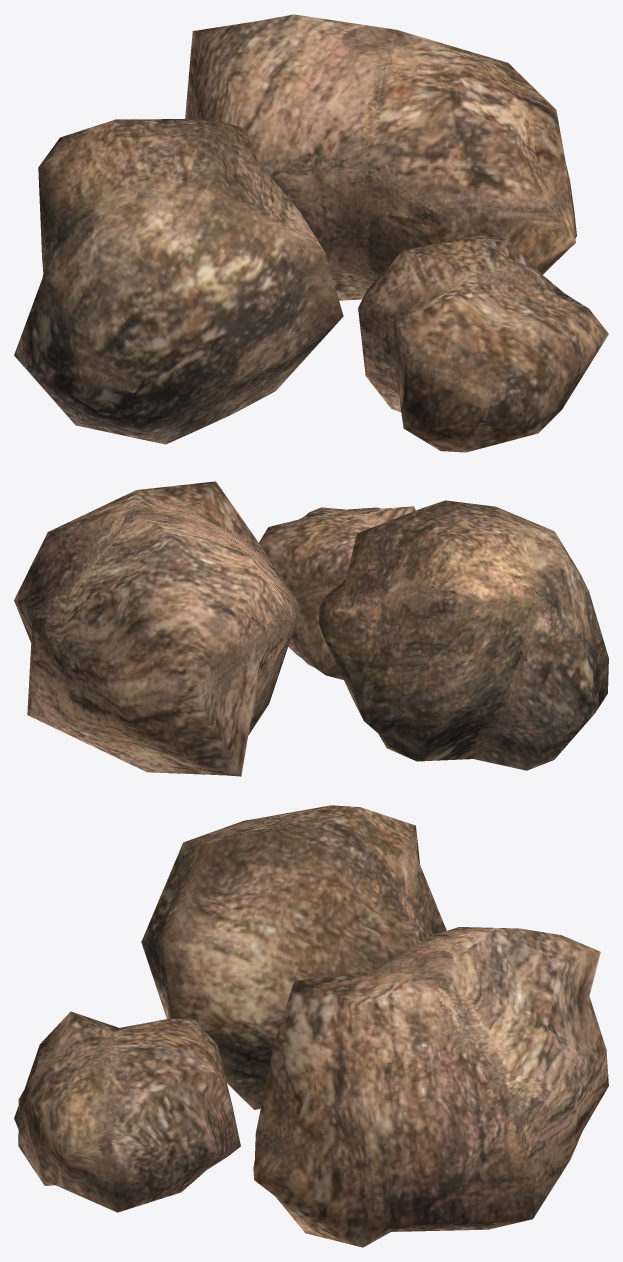
Rendered from stone.fbx.
3 renders of one model, top to bottom at view 1: azimuth 30°, elevation 25°; view 2: azimuth 150°, elevation 25°; view 3: azimuth 270°, elevation 25°, orthographic. The views are drawn at different scales.
Parts seen in each view (by area): view 1: stone; view 2: stone; view 3: stone.
Boxes of the visible parts, bbox=[...] form: stone: bbox=[14, 14, 608, 452]; stone: bbox=[14, 481, 608, 776]; stone: bbox=[14, 805, 608, 1247].
Size of the model in its own units: 105 by 48.48 by 97.05.
